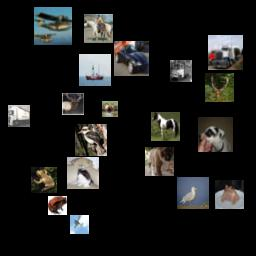airplane: (34, 7, 72, 45), (70, 215, 89, 234)
automobile: (114, 41, 149, 76)
bird: (177, 177, 209, 209), (75, 124, 107, 156)
cat: (145, 147, 174, 176)
deer: (205, 73, 234, 102), (62, 93, 84, 115), (102, 101, 118, 117)
dog: (198, 117, 233, 152), (67, 157, 99, 189)
frog: (215, 180, 244, 209), (31, 167, 57, 193), (48, 196, 67, 215)
ship: (79, 54, 111, 86)
truck: (208, 35, 243, 70), (170, 60, 192, 82), (8, 105, 30, 127)
